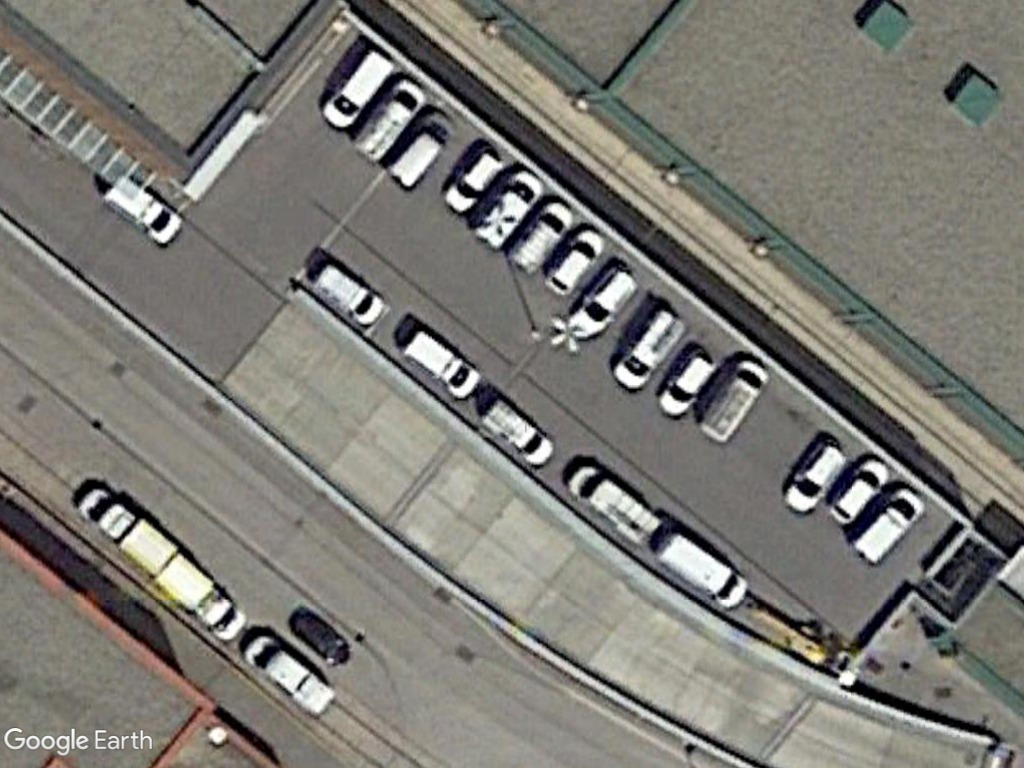car: (556, 257, 638, 340), (538, 220, 609, 304), (777, 436, 852, 515), (820, 455, 895, 530), (651, 344, 720, 423), (439, 142, 510, 215)
truck: (69, 486, 178, 578), (152, 549, 250, 646)
van: (561, 459, 662, 549), (240, 630, 340, 718), (652, 528, 754, 612), (606, 302, 691, 398), (342, 76, 429, 163), (314, 40, 397, 128), (693, 356, 771, 446), (476, 391, 559, 475), (848, 488, 931, 572), (100, 168, 185, 250), (397, 326, 484, 404), (307, 255, 390, 331), (381, 105, 456, 189), (503, 191, 575, 275)
